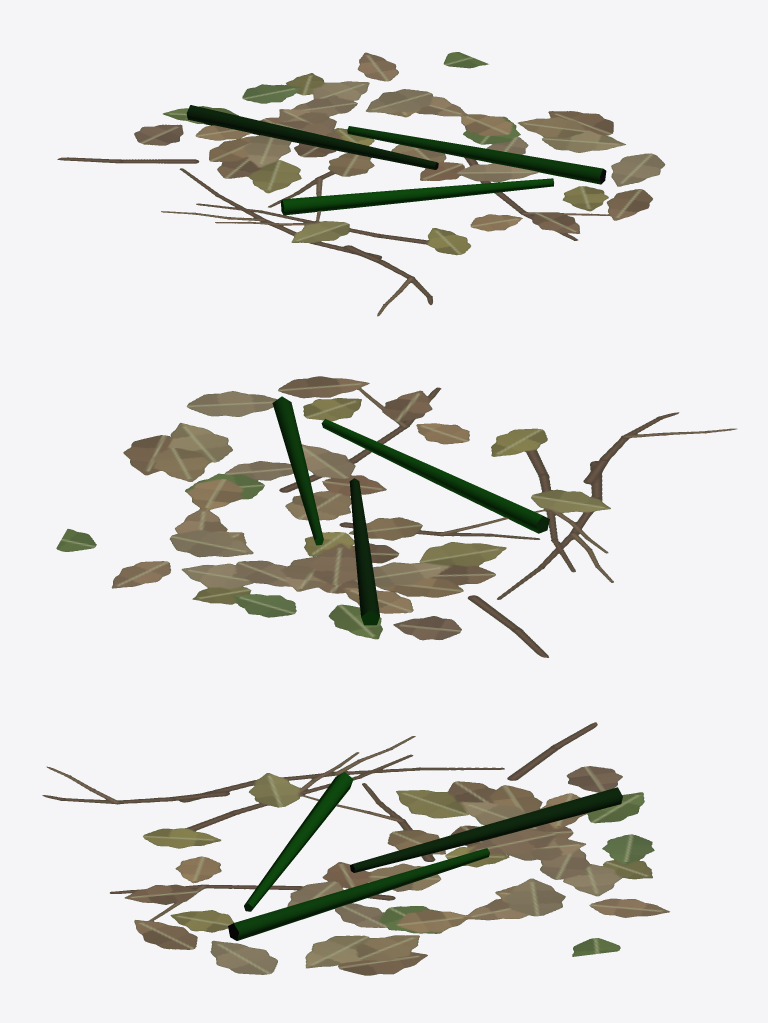
File: SM_Ground_Debris.fbx
3 views of the same model, one above another, from view 1: azimuth 30°, elevation 25°; view 2: azimuth 150°, elevation 25°; view 3: azimuth 270°, elevation 25° (orthographic). The views are drawn at different scales.
Parts seen in each view (by area): view 1: SM_Ground_Debris_LOD0; view 2: SM_Ground_Debris_LOD0; view 3: SM_Ground_Debris_LOD0.
Part boxes in pixels (box(x1,y1,x2,y2)): SM_Ground_Debris_LOD0: box(57, 52, 665, 316); SM_Ground_Debris_LOD0: box(56, 376, 736, 657); SM_Ground_Debris_LOD0: box(42, 722, 669, 975).
Size of the model in its own units: 2.11 by 0.0507 by 2.11.
